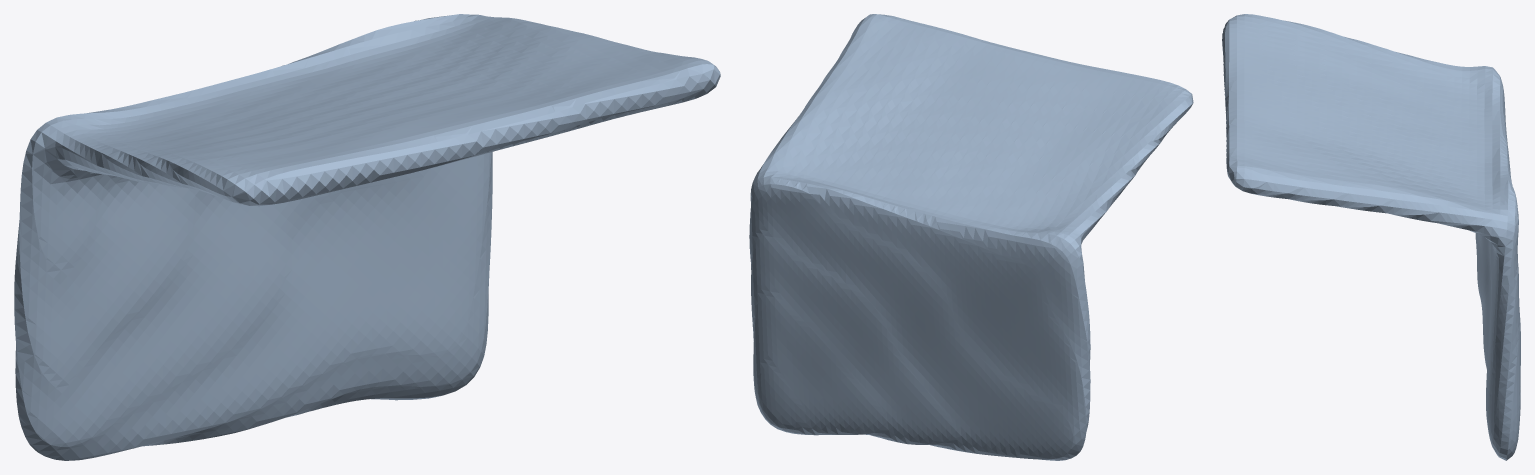
3 renders of one model, left to right at view 1: azimuth 30°, elevation 25°; view 2: azimuth 150°, elevation 25°; view 3: azimuth 270°, elevation 25°, orthographic. The views are drawn at different scales.
Parts seen in each view (by area): view 1: laptop_mesh; view 2: laptop_mesh; view 3: laptop_mesh.
Part boxes in pixels (x1,y1,x2,y2): laptop_mesh: [14, 14, 720, 460]; laptop_mesh: [749, 14, 1193, 460]; laptop_mesh: [1222, 14, 1520, 460].
Size of the model in its own units: 0.5512 by 0.4638 by 0.4022.
